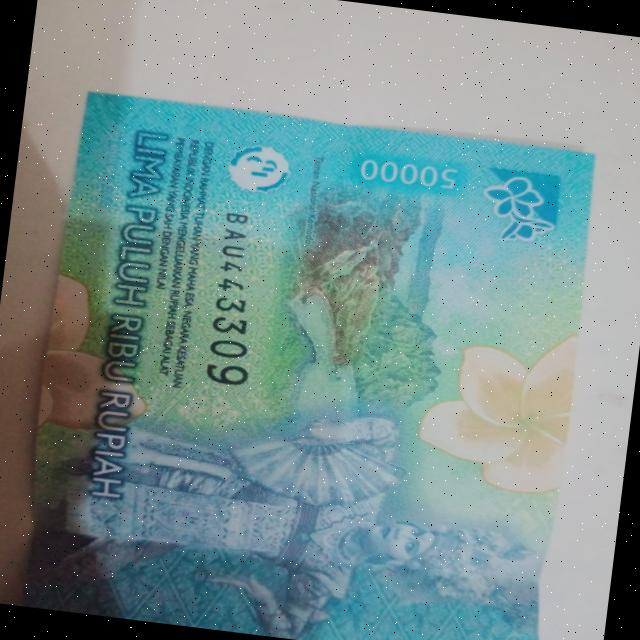50K: (2, 77, 608, 640)
